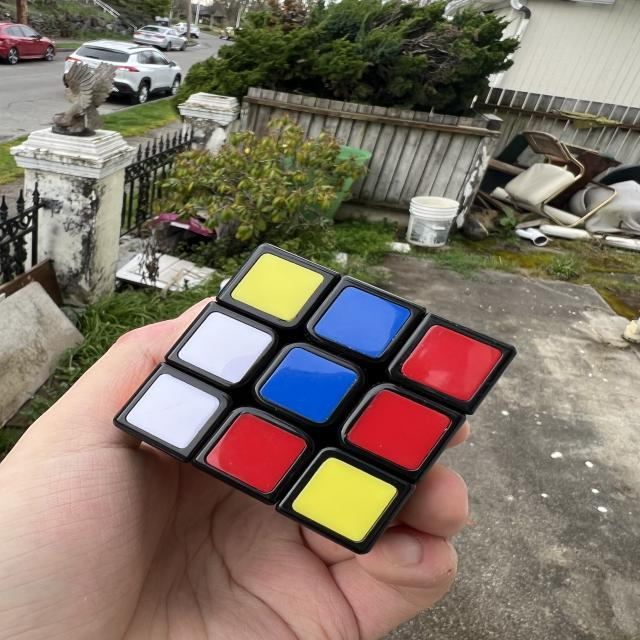blue: (312, 278, 412, 365)
center: (255, 338, 358, 430)
red: (342, 381, 453, 478), (203, 402, 309, 502), (398, 316, 504, 410)
white: (176, 301, 274, 392), (124, 365, 222, 456)
yellow: (290, 447, 399, 550), (229, 245, 325, 329)
